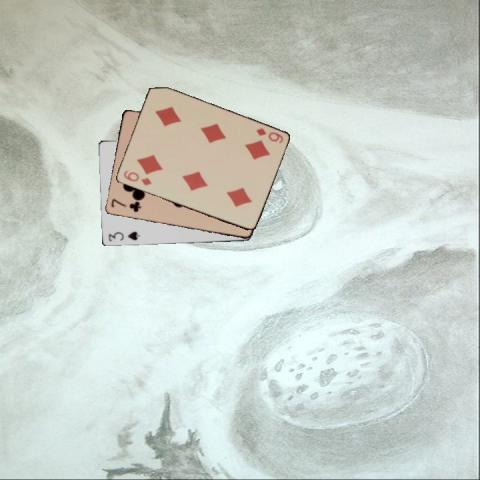3s: (105, 228, 141, 242)
6d: (120, 168, 153, 188), (252, 125, 284, 144)
7c: (108, 196, 142, 213)
